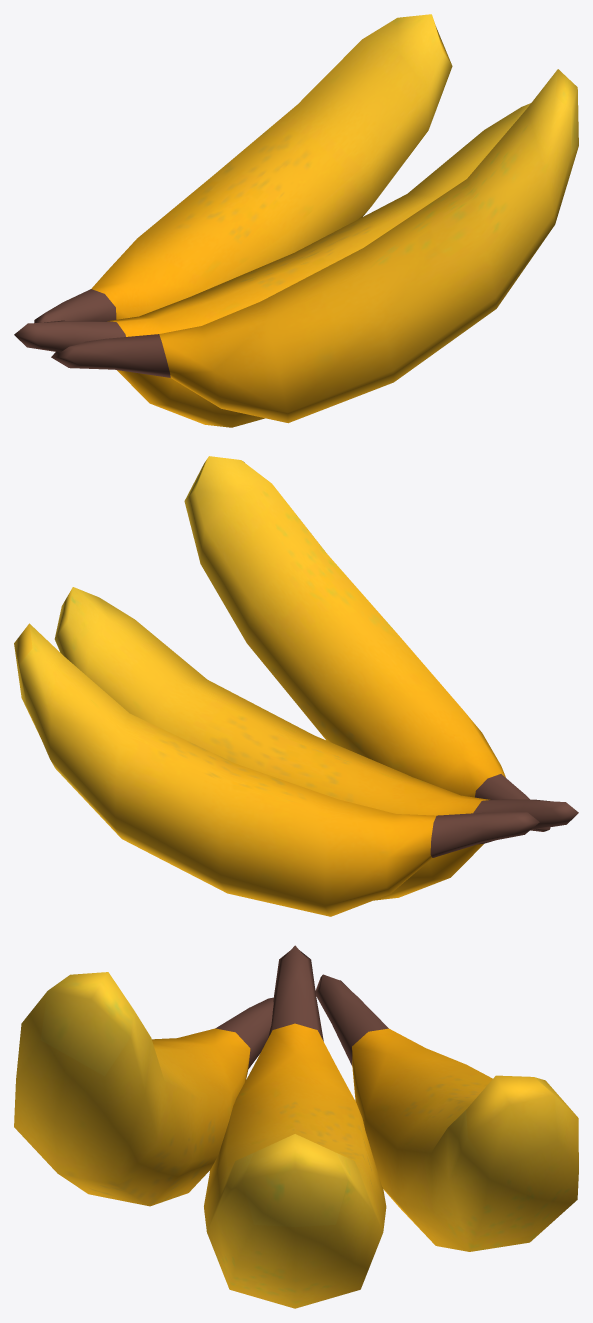
Rendered from Banana_Drop.fbx.
3 views of the same model, one above another, from view 1: azimuth 30°, elevation 25°; view 2: azimuth 150°, elevation 25°; view 3: azimuth 270°, elevation 25° (orthographic). The views are drawn at different scales.
Parts seen in each view (by area): view 1: Bananas; view 2: Bananas; view 3: Bananas.
Boxes of the visible parts, <box> form: Bananas: <box>14,14,578,427</box>; Bananas: <box>14,456,578,916</box>; Bananas: <box>14,945,578,1308</box>.
Size of the model in its own units: 1.05 by 0.6309 by 0.7666.
1 material, 1 textured.
